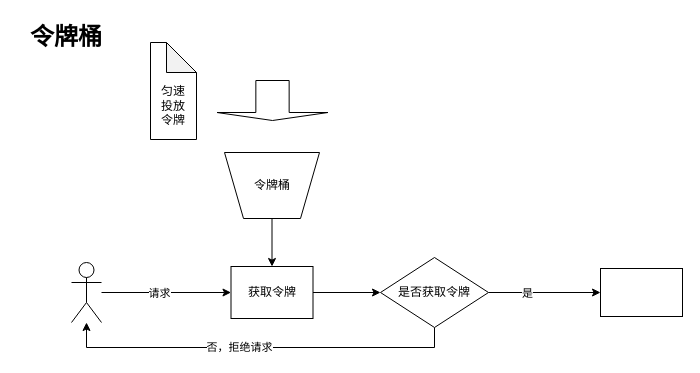
The diagram is 700 pixels wide and 373 high, and some of its shapes have lost their labels. Here are the shapes that lost their labels. From the top down, the centre of each, then its label:
At (x=272, y=100): "投放".
At (x=641, y=292): "后台应用".
